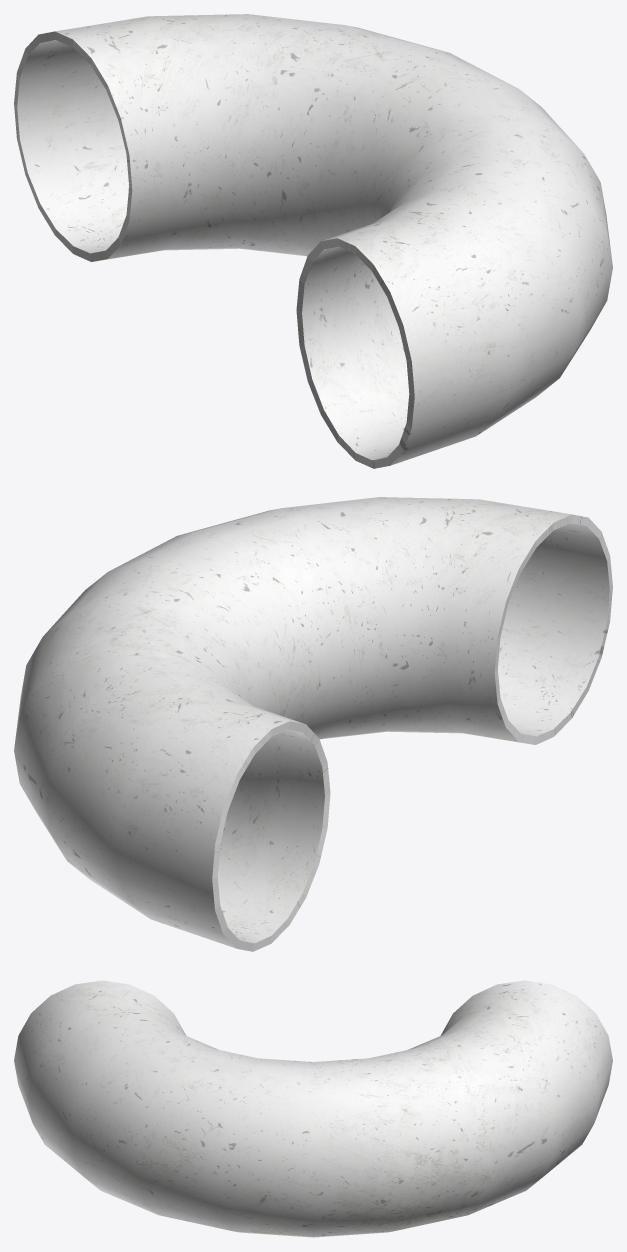
Rendered from SM_AC_Unit_C_Bend_90.glb.
The picture shows the model from 3 angles, top to bottom: view 1: azimuth 30°, elevation 25°; view 2: azimuth 150°, elevation 25°; view 3: azimuth 270°, elevation 25°; orthographic projection. The views are drawn at different scales.
Visible parts, largest first — view 1: SM_AC_Unit_C_Bend_90; view 2: SM_AC_Unit_C_Bend_90; view 3: SM_AC_Unit_C_Bend_90.
Part boxes in pixels (left/top/right/bottom): SM_AC_Unit_C_Bend_90: left=14, top=14, right=612, bottom=468; SM_AC_Unit_C_Bend_90: left=14, top=497, right=612, bottom=951; SM_AC_Unit_C_Bend_90: left=14, top=980, right=612, bottom=1237.
Bounding box in the file's own units: 0.6798 × 0.4 × 1.35.
1 material, 1 textured.
